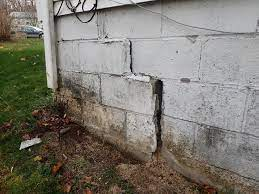stairstep_crack: (102, 34, 164, 154)
